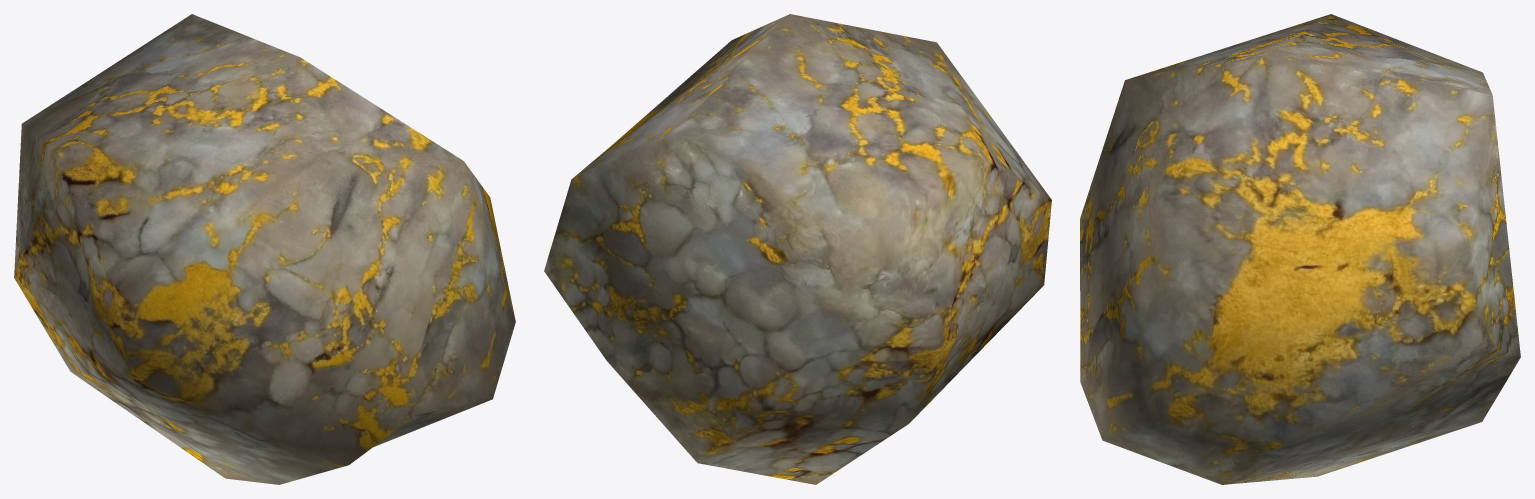
File: rock.glb
The picture shows the model from 3 angles, left to right: view 1: azimuth 30°, elevation 25°; view 2: azimuth 150°, elevation 25°; view 3: azimuth 270°, elevation 25°; orthographic projection. The views are drawn at different scales.
Parts seen in each view (by area): view 1: Mesh1.0; view 2: Mesh1.0; view 3: Mesh1.0.
Boxes of the visible parts, <box> form: Mesh1.0: <box>14,14,515,484</box>; Mesh1.0: <box>544,14,1051,484</box>; Mesh1.0: <box>1080,14,1520,484</box>.
Bounding box in the file's own units: 1.85 × 1.89 × 1.7.
1 material, 1 textured.
